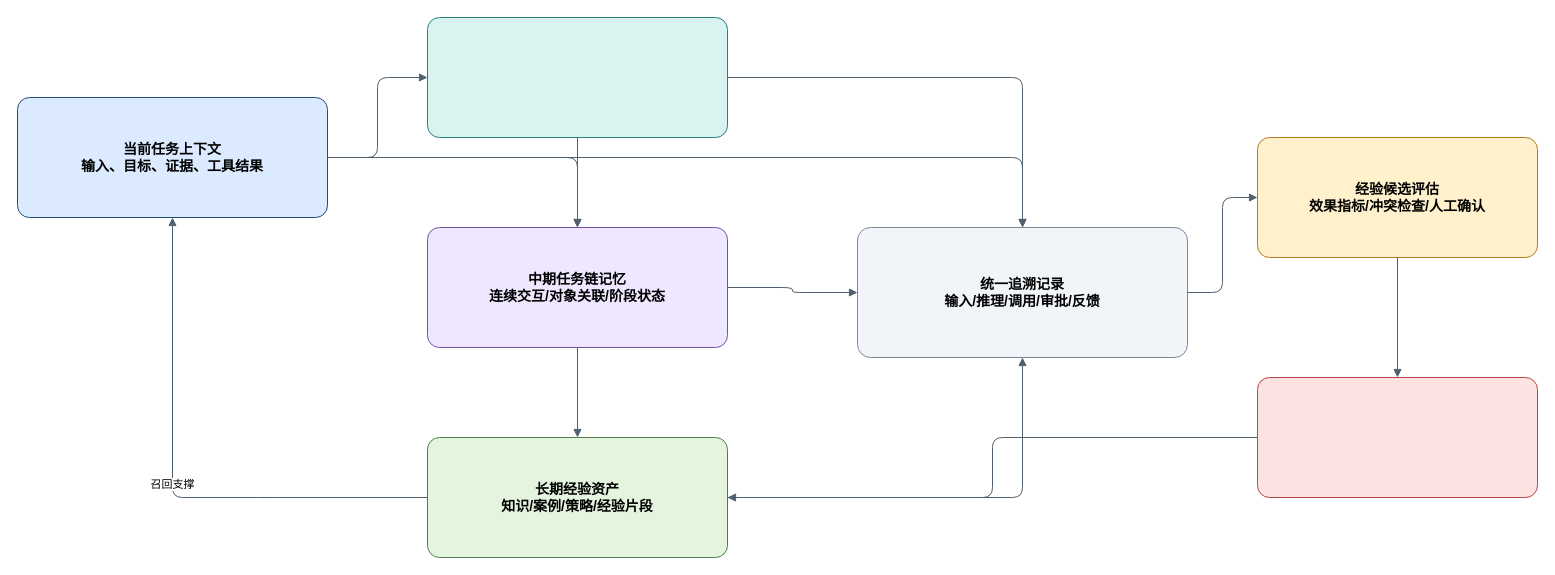
Some shapes in this 1555 by 575 pixel diagram are drawn without their labels. The shapes that lost their labels are listed below. From the top down, each one's centre as x and y in pixels, then its label:
point (577, 77): 短期记忆 上下文版本/证据编号/临时状态
point (1397, 437): 受控回流 长期沉淀/版本标识/适用范围
